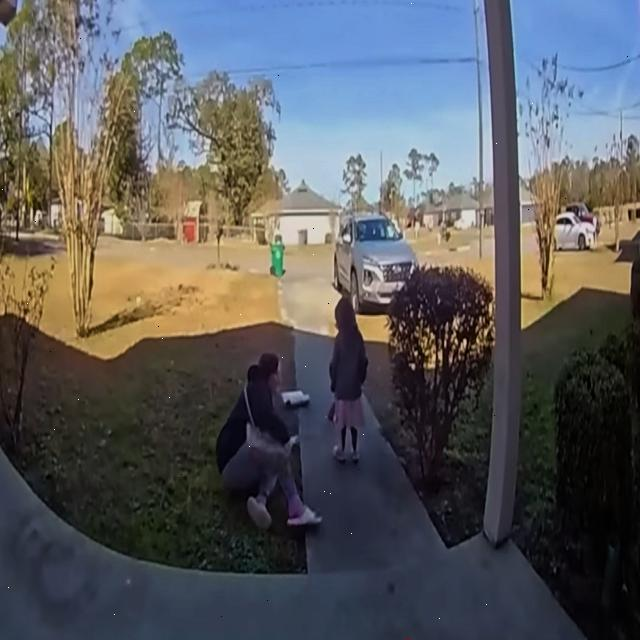fallen: (216, 353, 322, 528)
standing: (329, 298, 368, 462)
